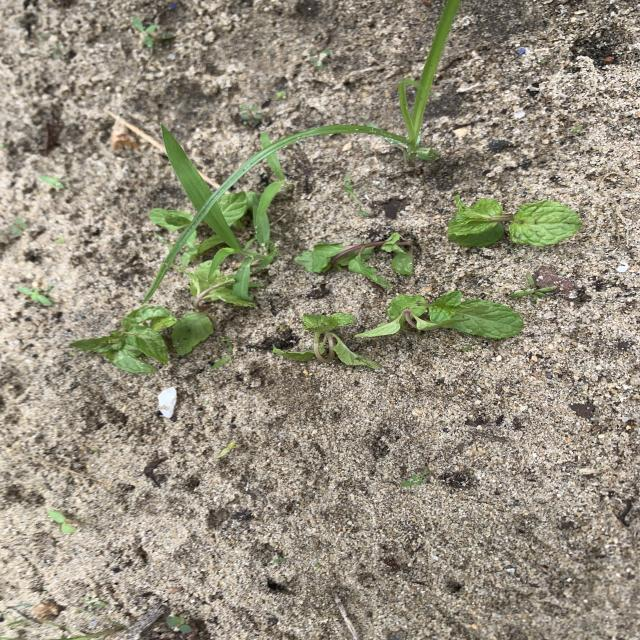crop: (356, 291, 524, 339), (171, 260, 254, 355), (71, 306, 176, 374), (448, 195, 582, 247), (294, 233, 413, 288), (273, 313, 381, 369), (218, 191, 249, 225), (149, 208, 193, 231)
weed: (141, 0, 460, 304), (206, 203, 276, 300), (255, 155, 287, 223), (342, 171, 372, 216), (132, 16, 174, 48), (513, 273, 544, 303), (17, 281, 53, 306), (8, 218, 44, 240), (39, 174, 81, 191), (47, 510, 77, 533), (218, 440, 246, 461), (166, 614, 193, 634), (401, 468, 429, 487), (239, 105, 264, 120), (221, 338, 234, 366), (274, 90, 287, 100), (215, 360, 221, 367)
